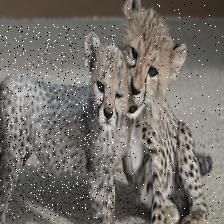Cheetha: (0, 25, 129, 221), (116, 0, 224, 224)
